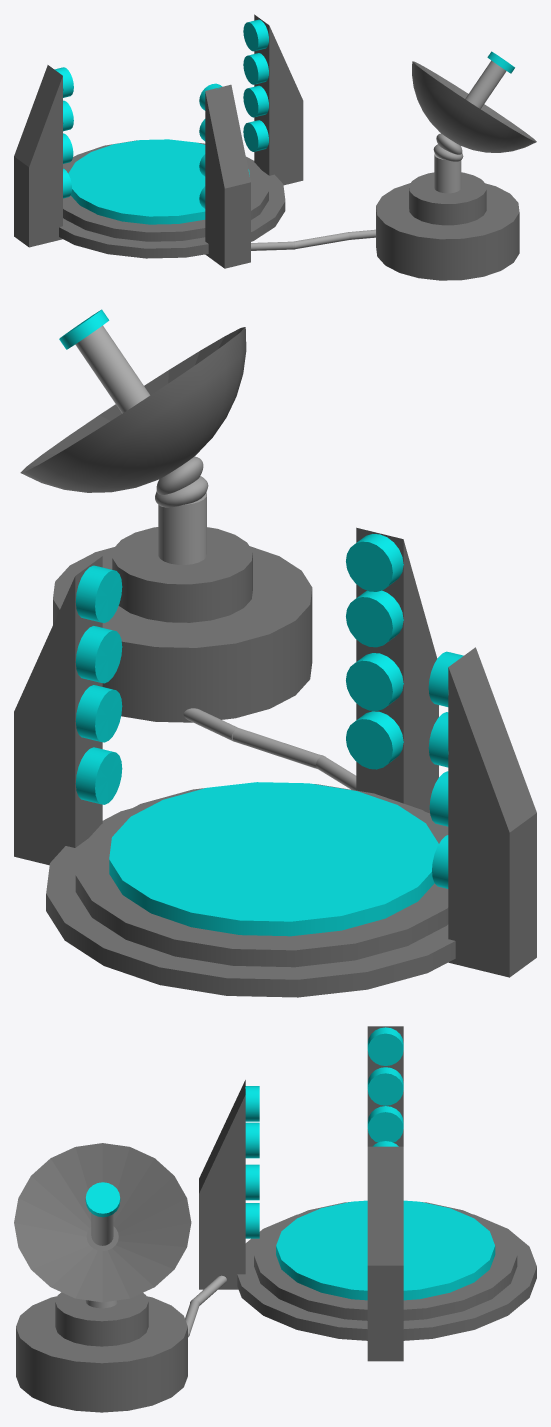
File: TeleportPad.fbx
The picture shows the model from 3 angles, top to bottom: view 1: azimuth 30°, elevation 25°; view 2: azimuth 150°, elevation 25°; view 3: azimuth 270°, elevation 25°; orthographic projection. The views are drawn at different scales.
Parts seen in each view (by area): view 1: pCylinder25; view 2: pCylinder25; view 3: pCylinder25.
Boxes of the visible parts, x1,y1,x2,y2 form: pCylinder25: [14, 14, 536, 280]; pCylinder25: [14, 309, 536, 997]; pCylinder25: [14, 1026, 536, 1412].
Bounding box in the file's own units: 5.32 × 2.5 × 5.25.
